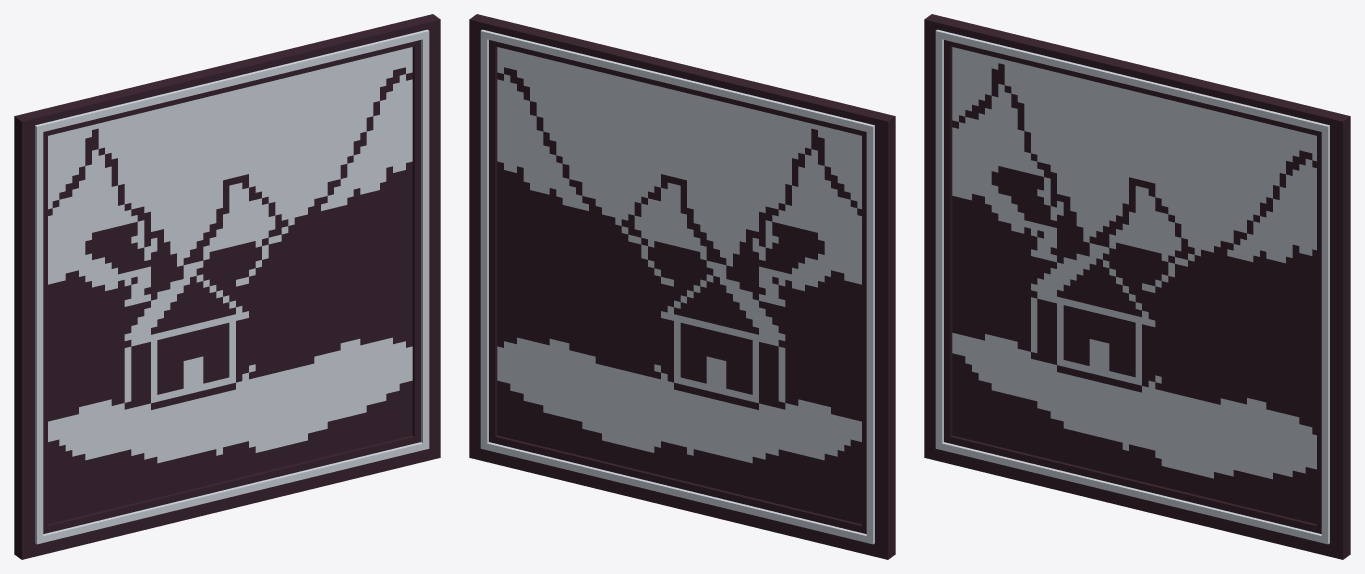
File: Cabin Painting.fbx
3 renders of one model, left to right at view 1: azimuth 30°, elevation 25°; view 2: azimuth 150°, elevation 25°; view 3: azimuth 330°, elevation 25°, orthographic.
Parts seen in each view (by area): view 1: generated; view 2: generated; view 3: generated.
Part boxes in pixels (x1=…): generated: x1=14, y1=14, x2=440, y2=559; generated: x1=469, y1=14, x2=895, y2=559; generated: x1=924, y1=14, x2=1350, y2=559.
Bounding box in the file's own units: 2560 × 2560 × 120.
